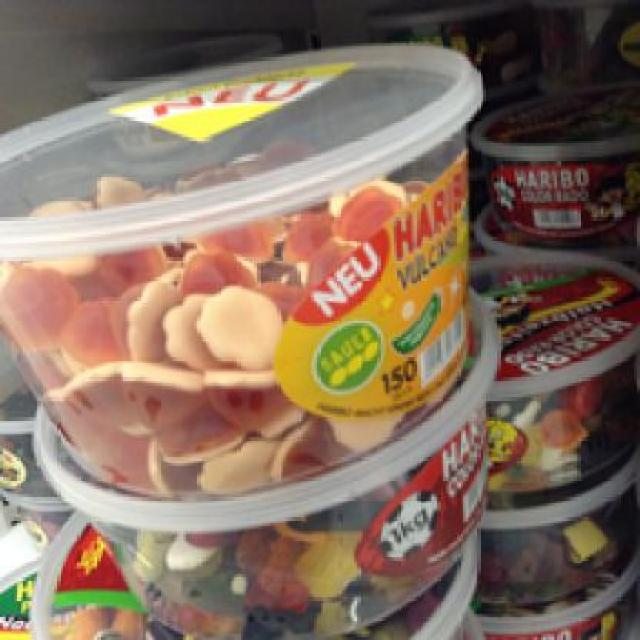Candy: (0, 29, 483, 498), (37, 437, 483, 632)
